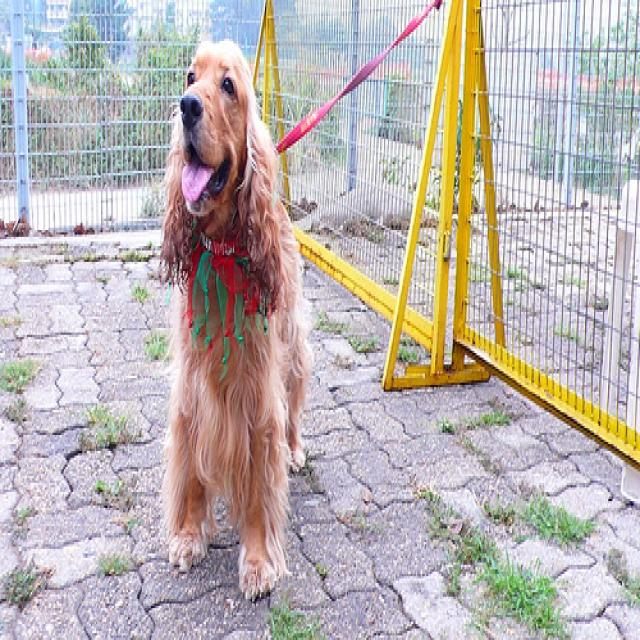dog-english_cocker_spaniel: (151, 16, 324, 608)
